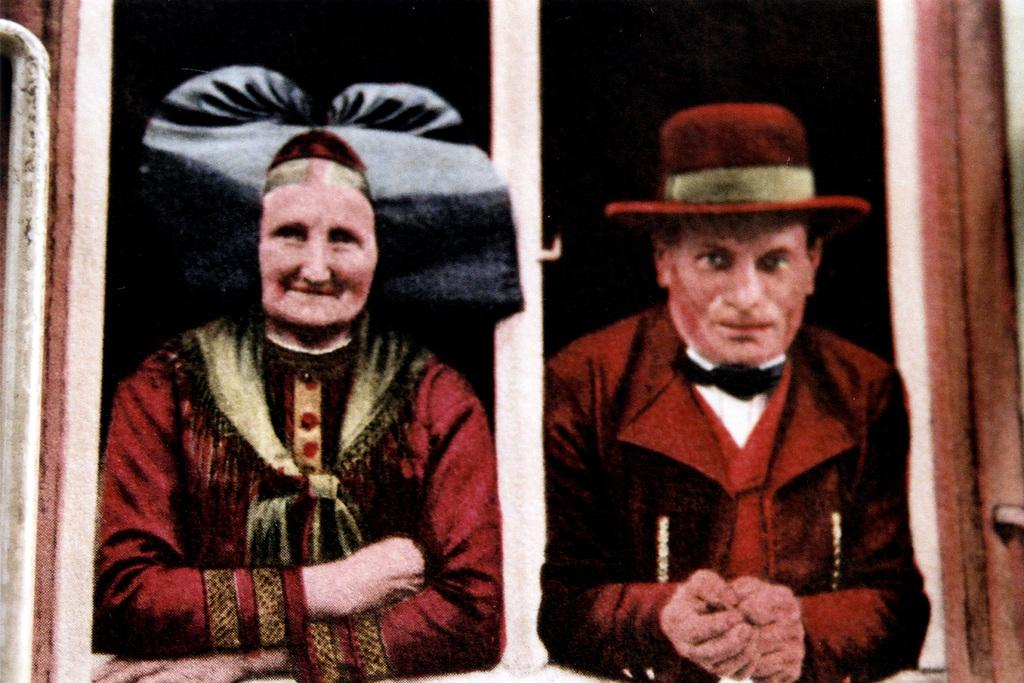Hat: (608, 102, 868, 228)
